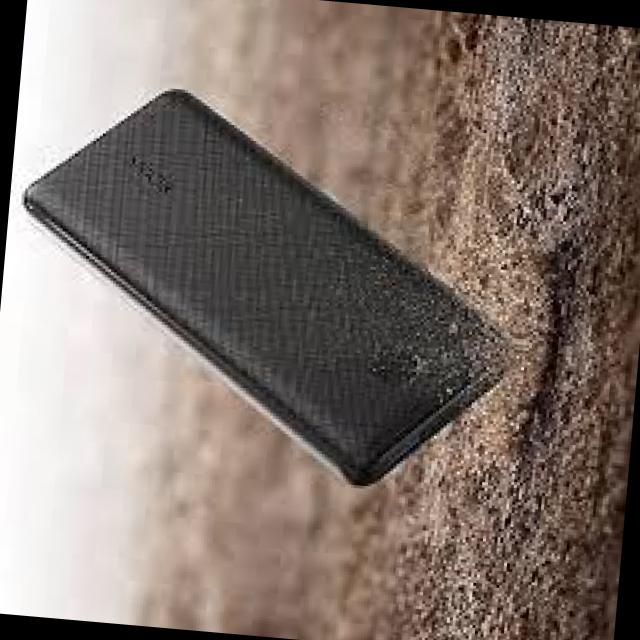portable-charger: (0, 71, 539, 500)
